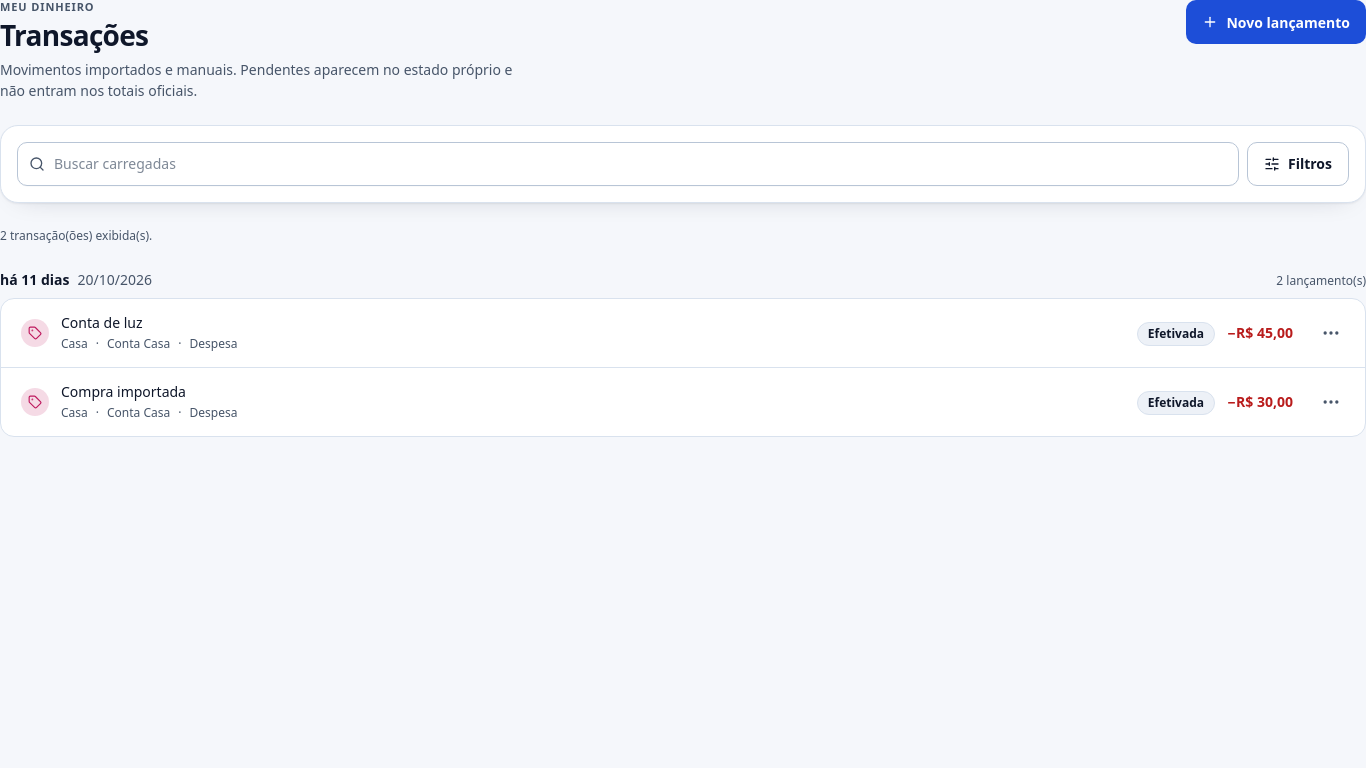
Test case: exclusão de lançamento manual › aplica filtros avançados e preserva na URL
The width and height of the screenshot is (1366, 768).
Expected: the text "Conta de luz" is shown, [61,313,142,332]
Step 1. Click the button "Filtros" → coordinates (1298, 164), box [1247,142,1349,186]
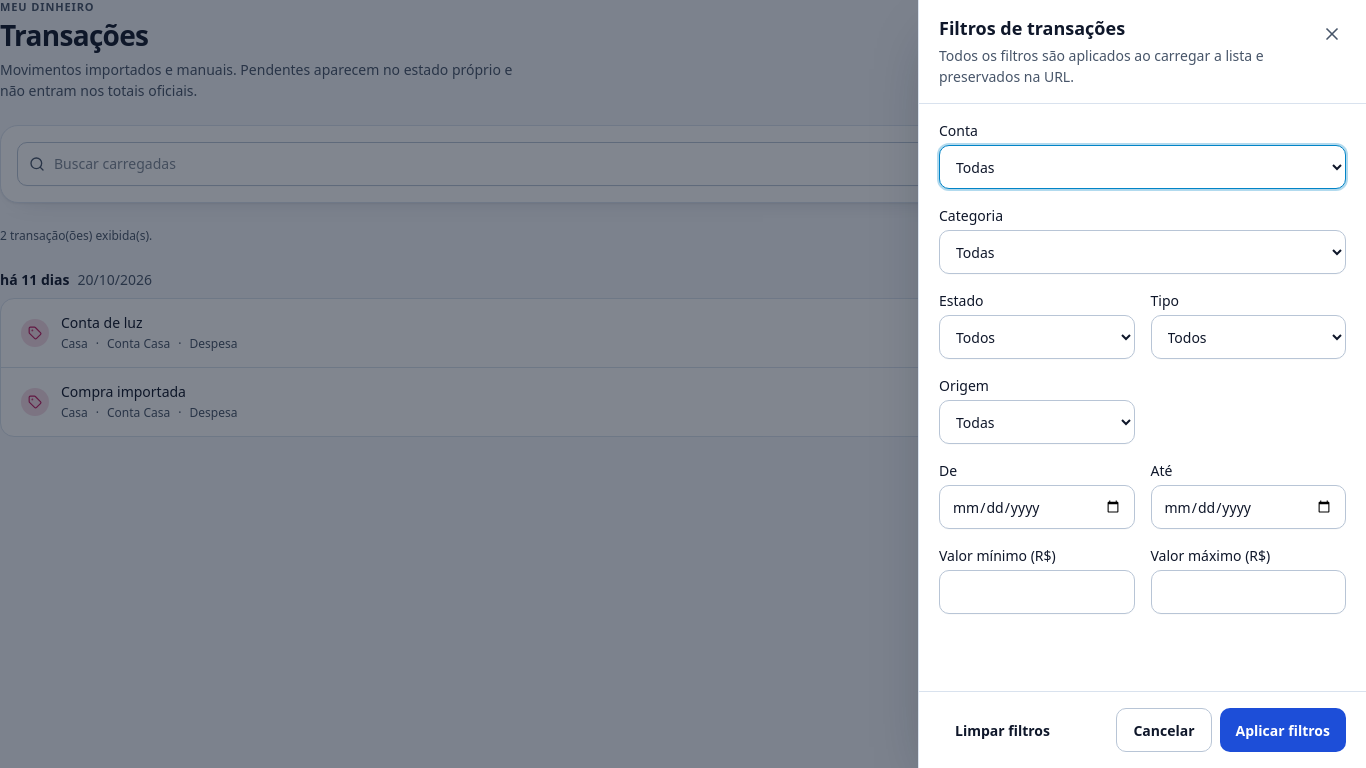
Step 2. Select "Pendente" in the dropdown labelled "Estado" → coordinates (1037, 337), box [939,315,1134,359]
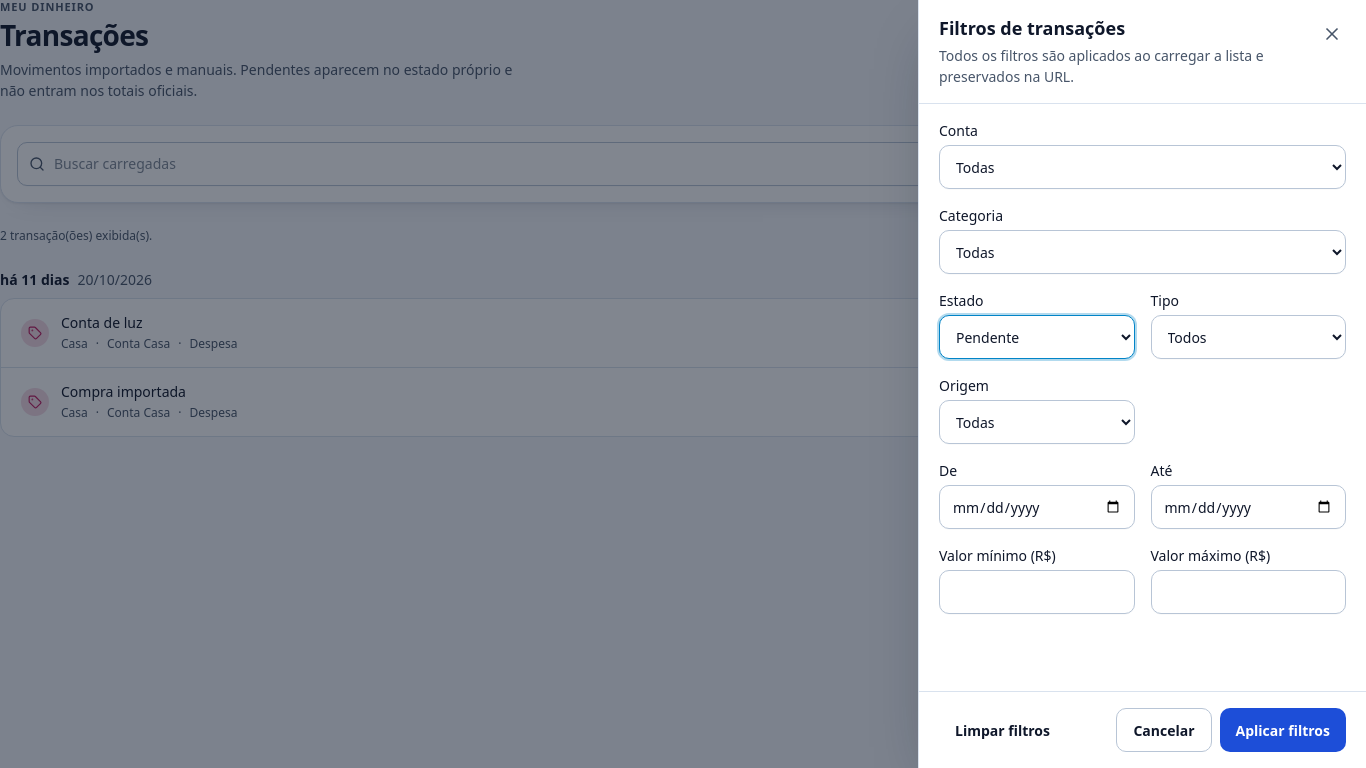
Step 3. Select "Despesa" in the dropdown labelled "Tipo" → coordinates (1248, 337), box [1150,315,1346,359]
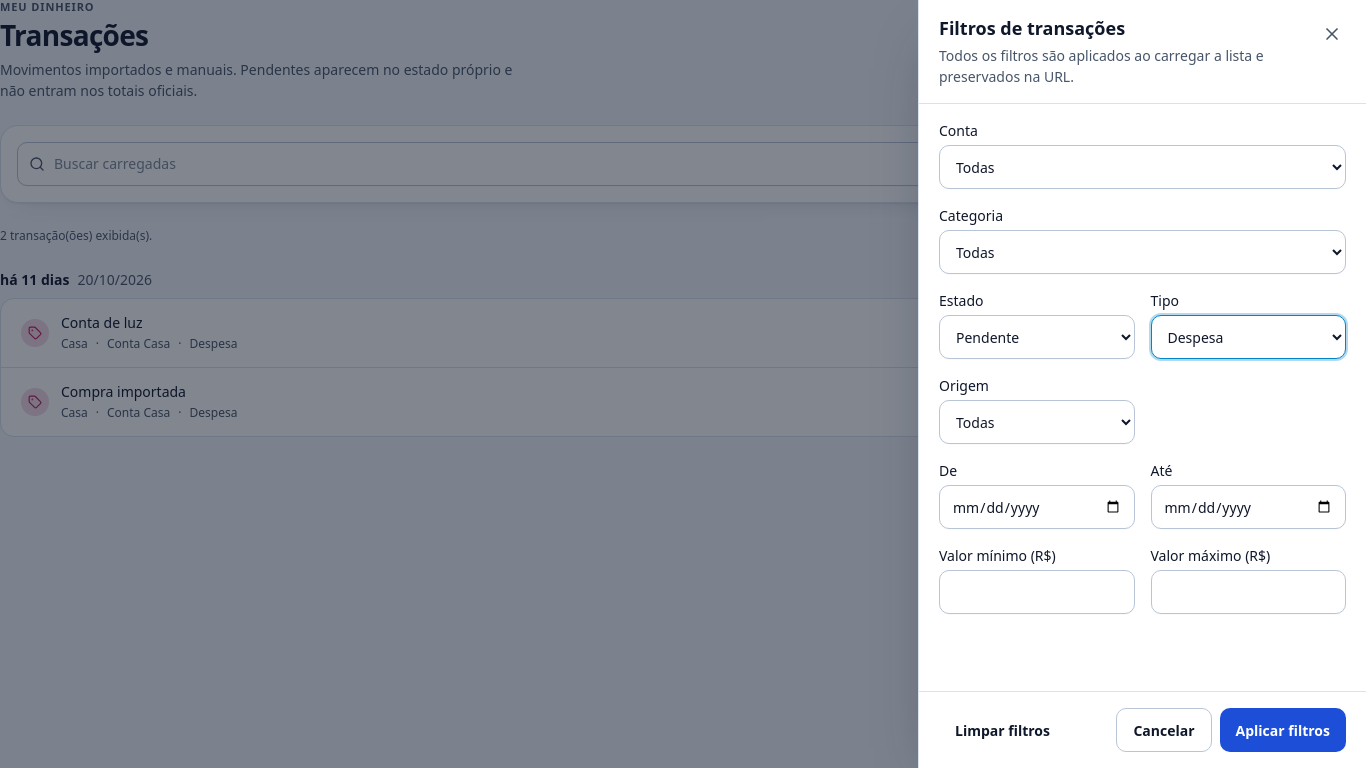
Step 4. Click the button "Aplicar filtros" → coordinates (1283, 730), box [1220,708,1346,752]
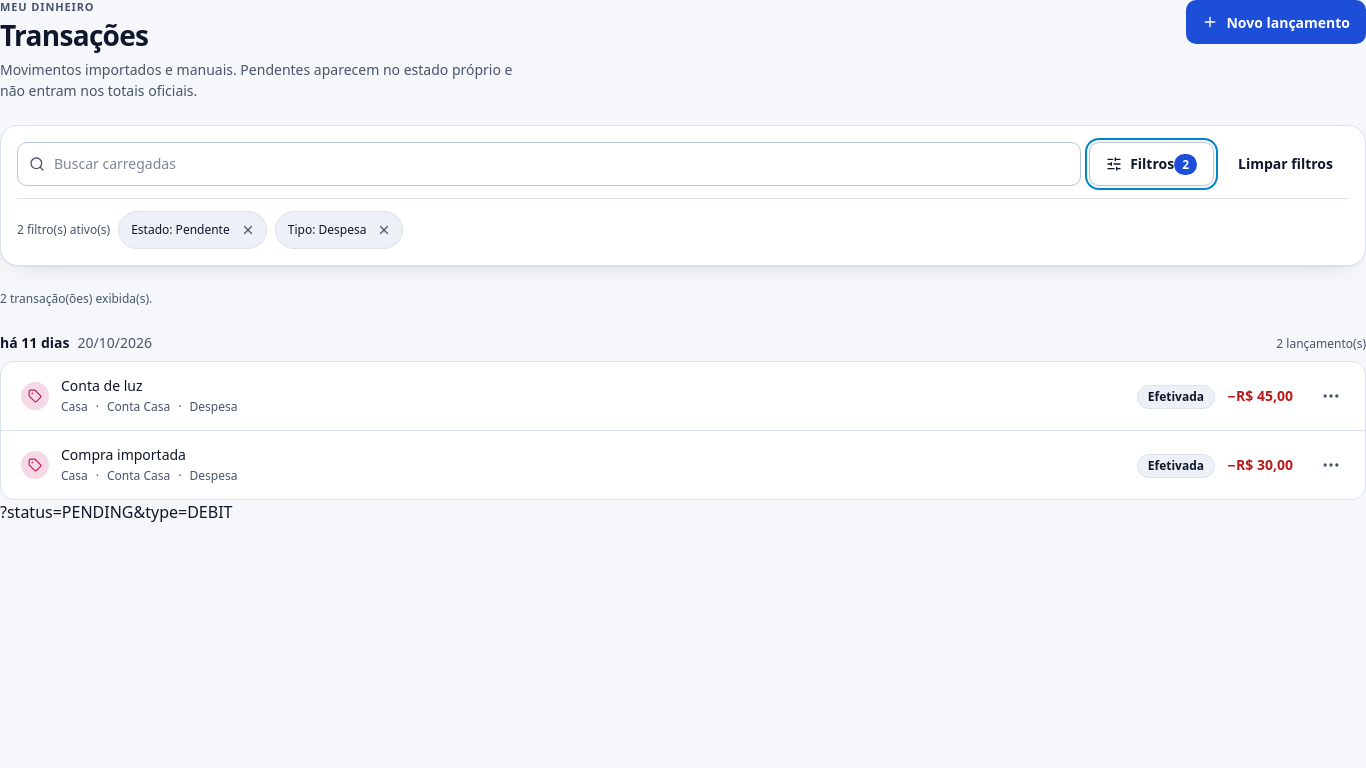
Result: the text with test id "location" shows "status=PENDING" at [0,501,232,523]
Result: the text with test id "location" shows "type=DEBIT" at [0,501,232,523]
Result: the text "Estado: Pendente" is shown at [118,211,267,249]
